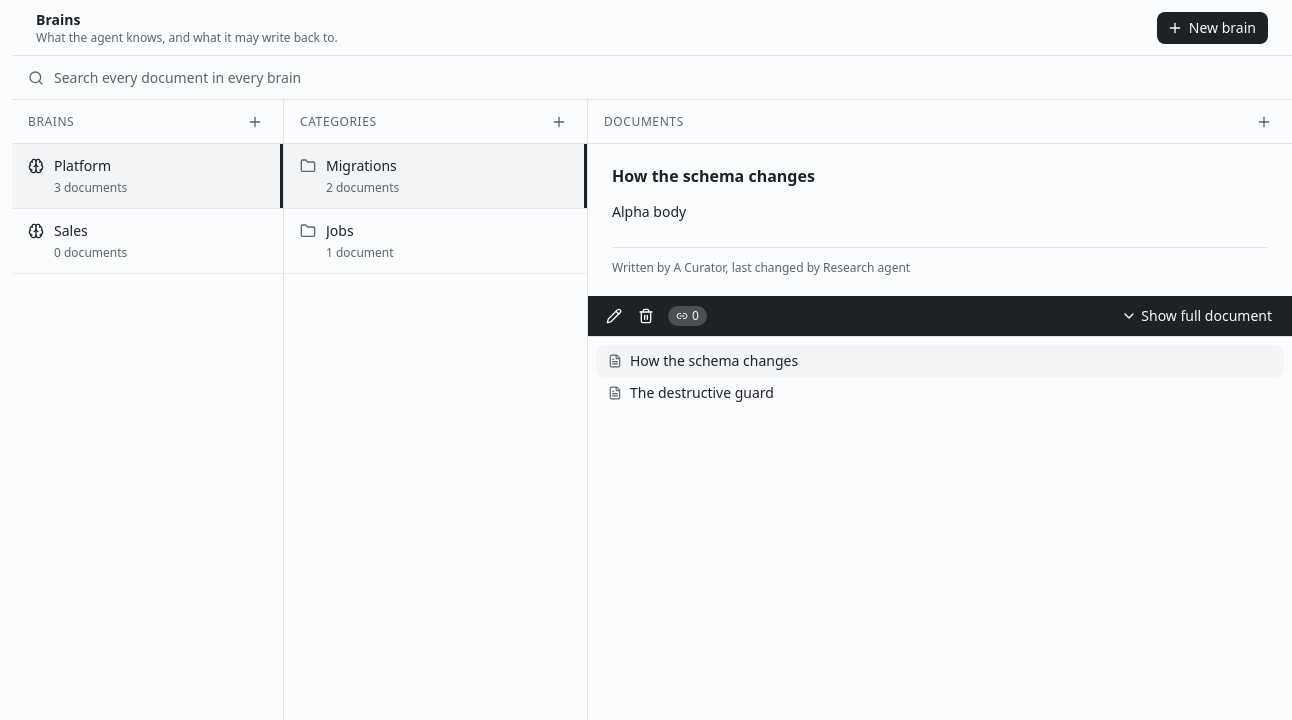
Test: the brains screen › keeps the panes after a failed click and clears the failure on the next answer
Check: the text "Alpha body" is shown, box [612,202,686,221]
Click the text "Platform".
click(83, 166)  # box [54,156,111,175]
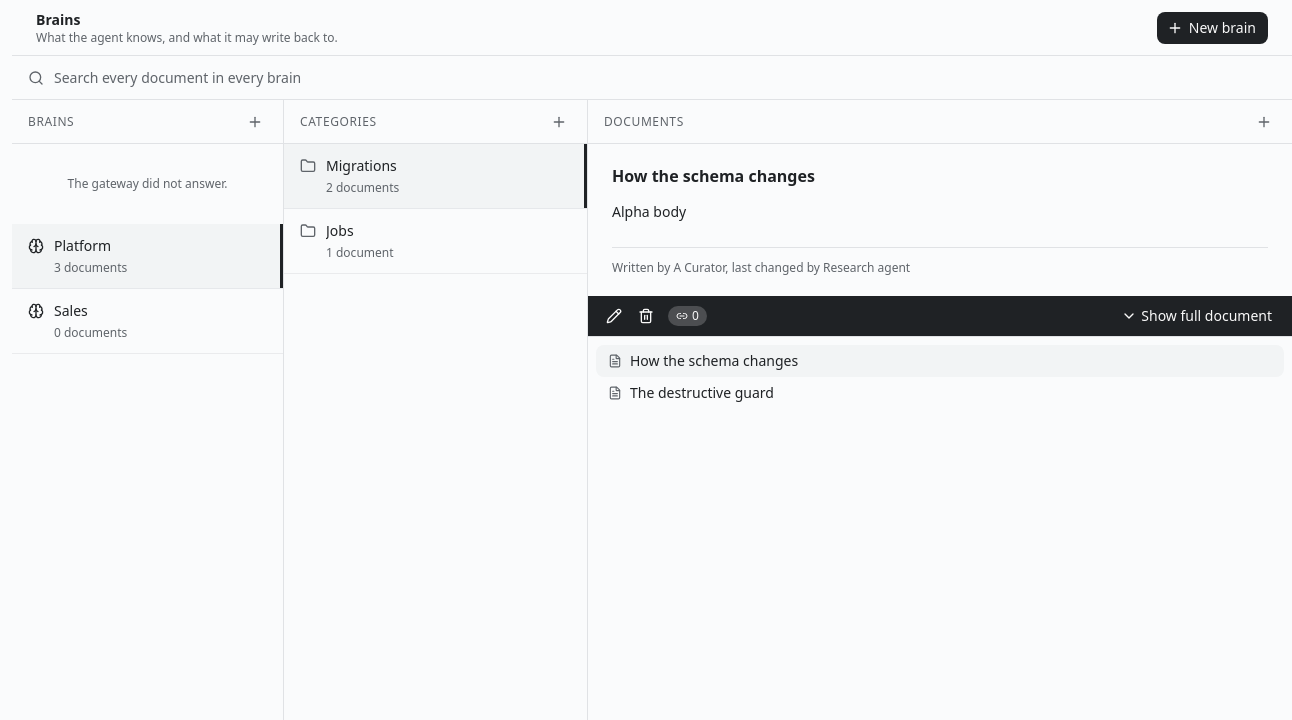
Check: the text "The gateway did not answer." is shown, box [68,175,227,192]
Click the text "Platform".
click(83, 246)  # box [54,236,111,255]
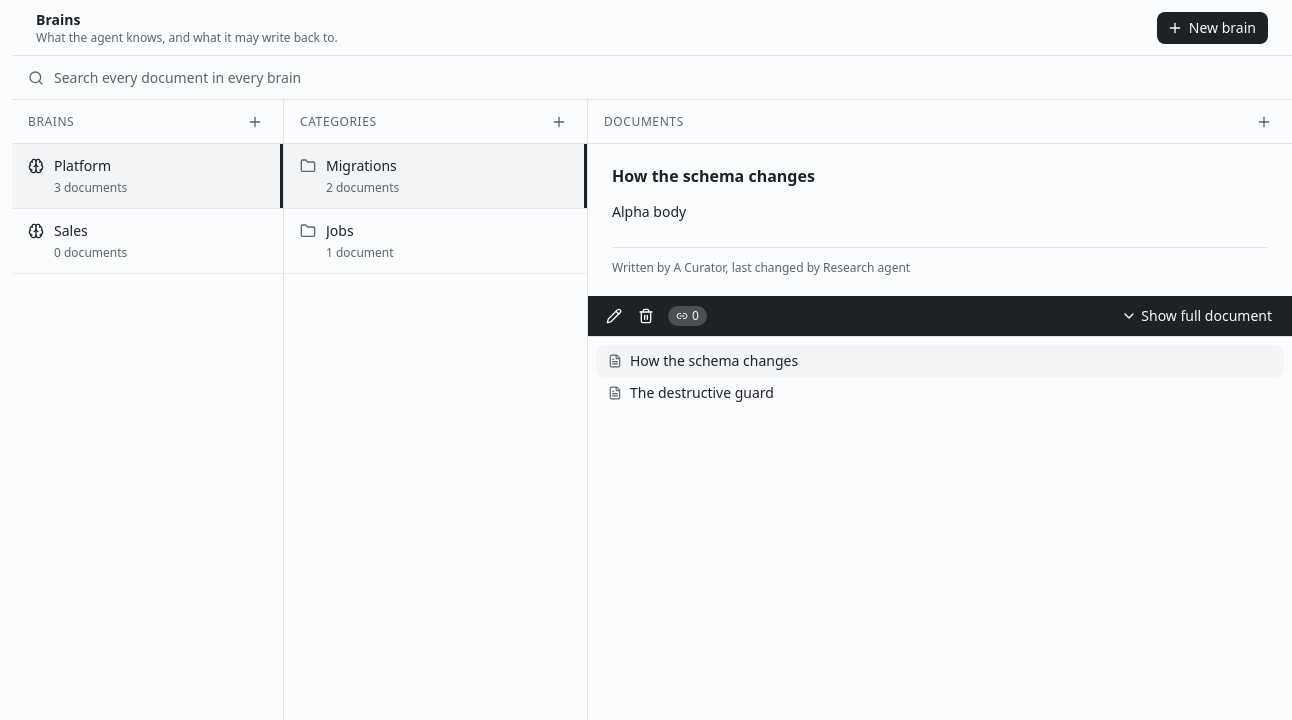
Check: the text "The gateway did not answer." is gone
